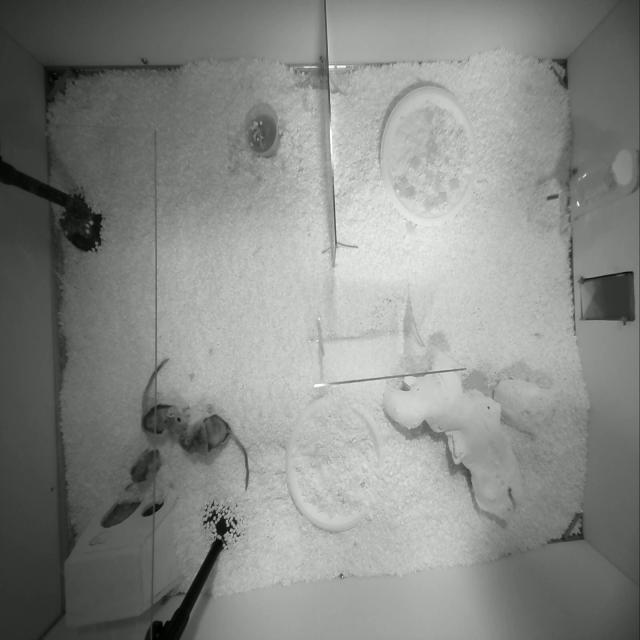adult_back: (179, 414, 249, 490)
adult_front: (141, 358, 188, 436)
pup_v_stripe: (125, 447, 162, 490)
